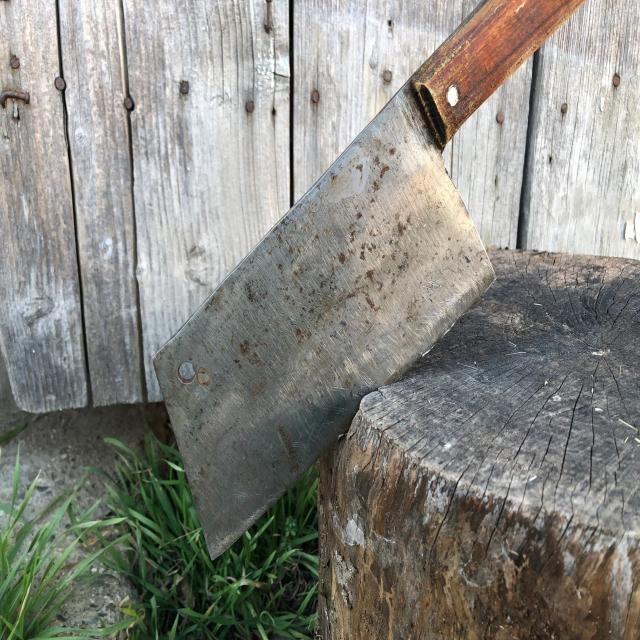cleaver: (154, 0, 480, 556)
